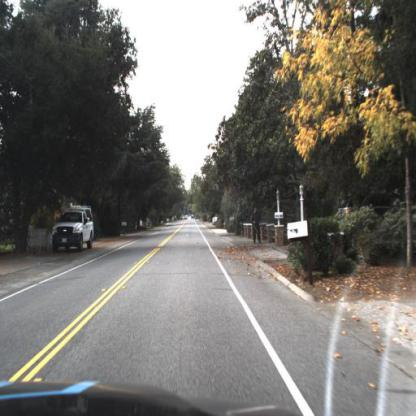car: (53, 206, 94, 256)
pedestrian: (251, 204, 263, 245)
